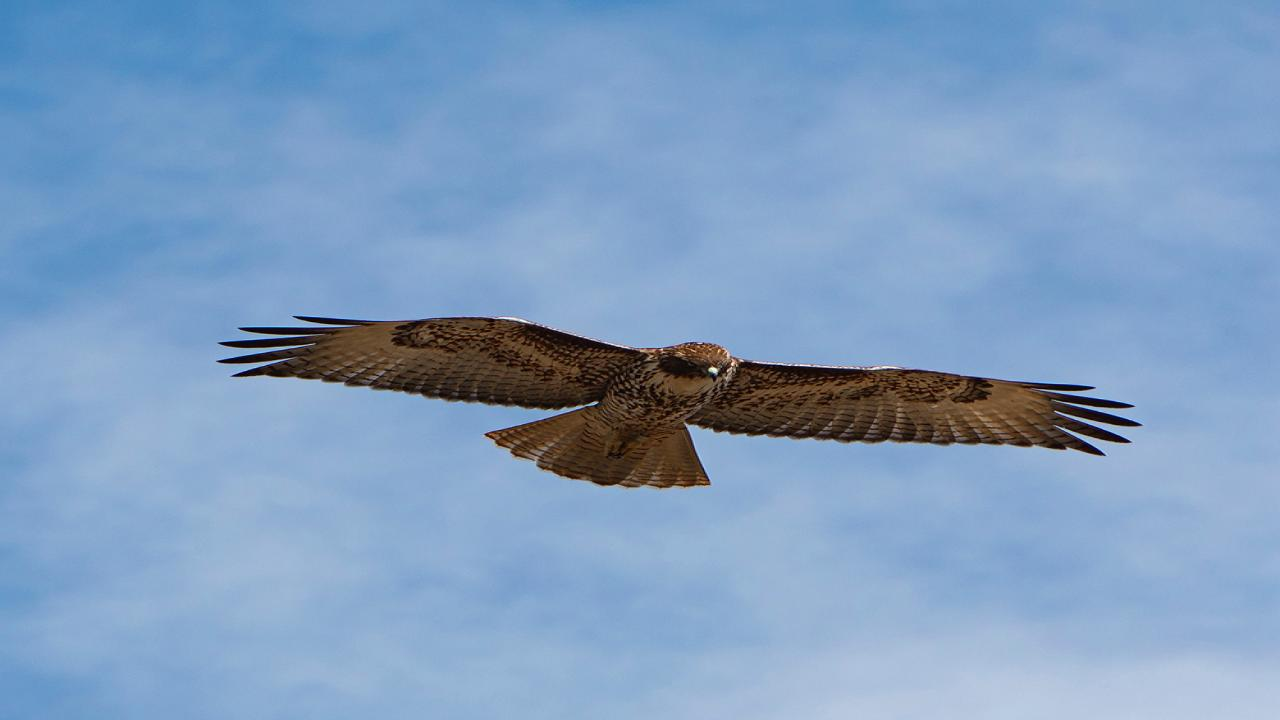Bird: (202, 308, 1148, 506)
